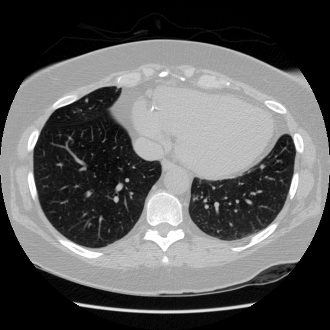nodule: (84, 98, 88, 102)
